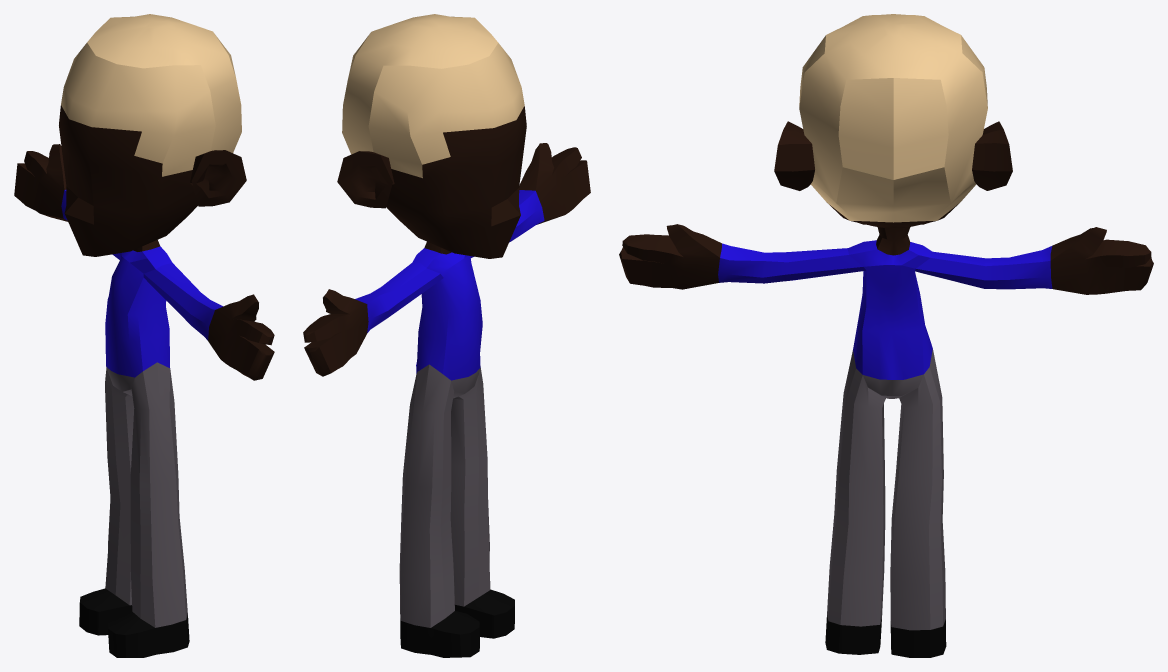
The model's file is Men4.fbx.
The picture shows the model from 3 angles, left to right: view 1: azimuth 30°, elevation 25°; view 2: azimuth 150°, elevation 25°; view 3: azimuth 270°, elevation 25°; orthographic projection. The views are drawn at different scales.
Visible parts, largest first — view 1: Body; view 2: Body; view 3: Body.
Boxes of the visible parts, <box> form: Body: <box>14,14,274,657</box>; Body: <box>303,14,590,657</box>; Body: <box>619,14,1153,657</box>.
Size of the model in its own units: 391 by 147 by 505.
